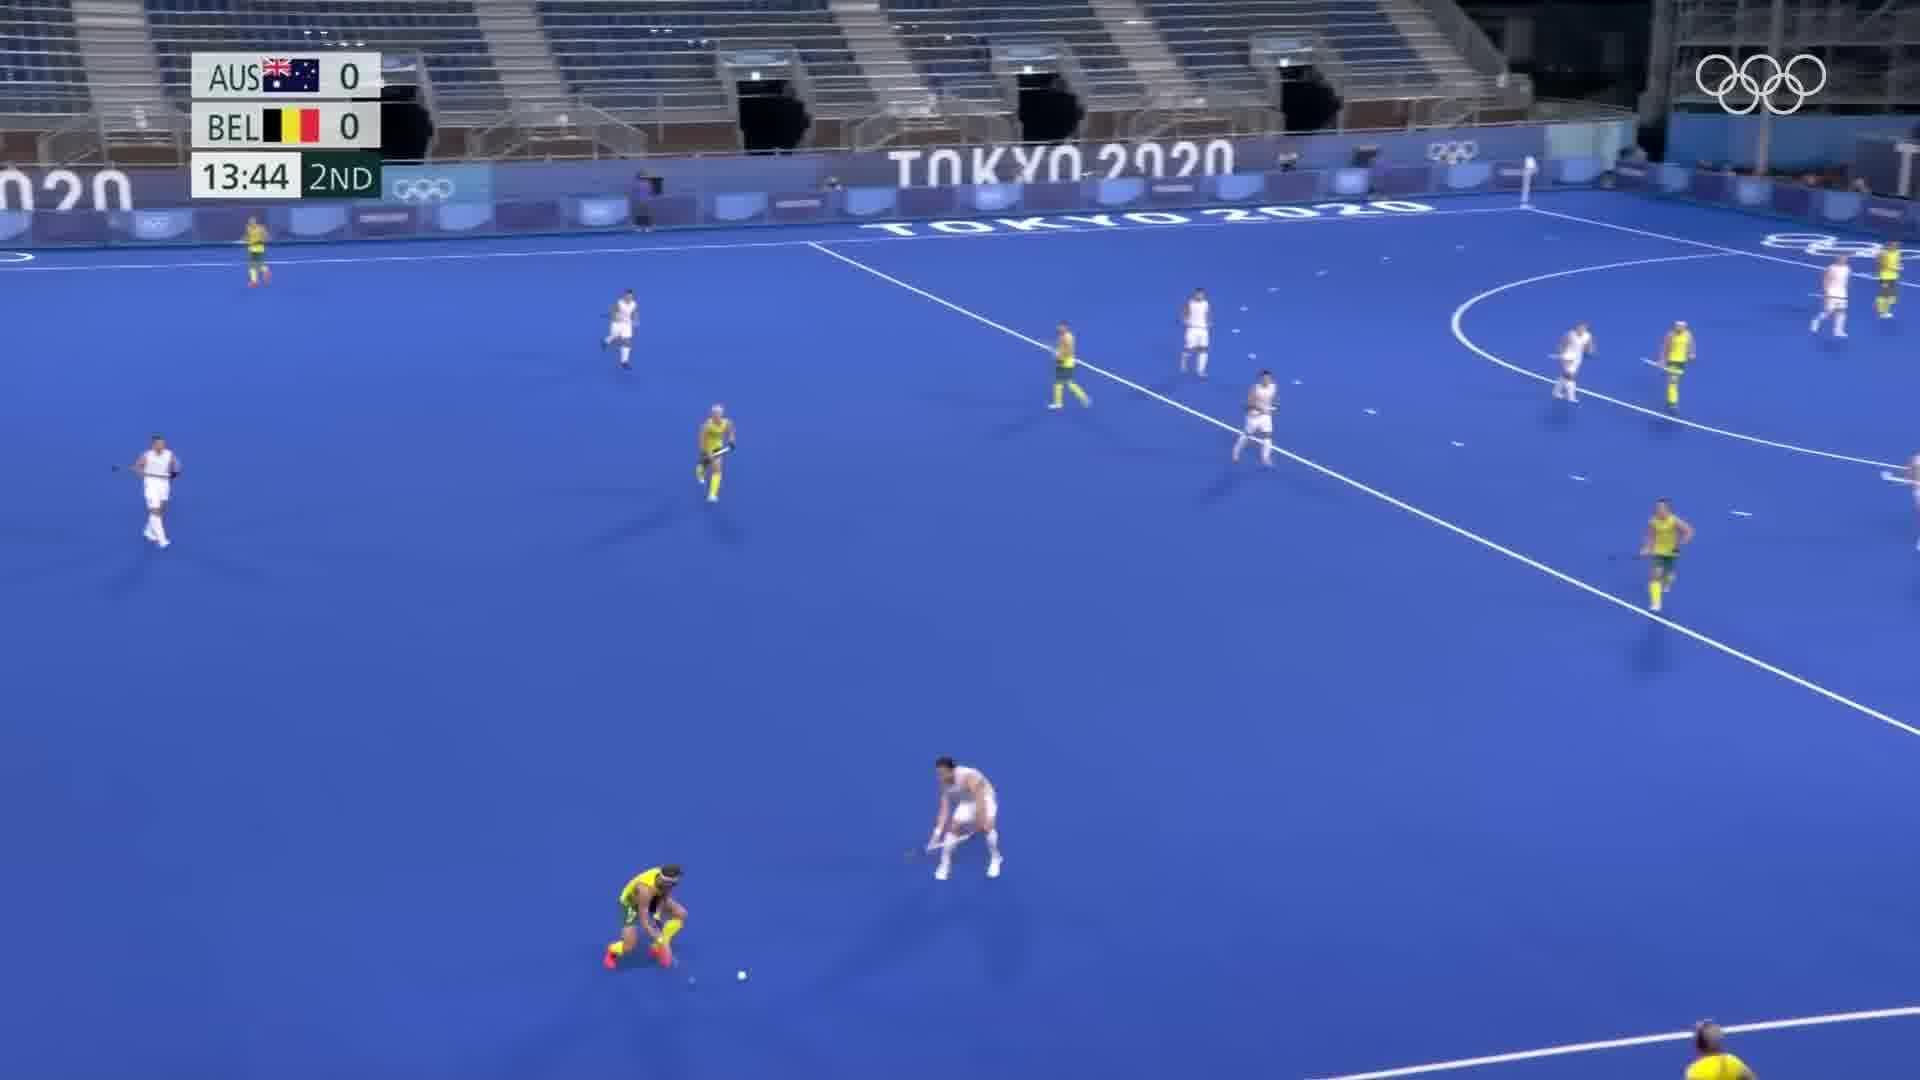ball: (735, 963, 754, 986)
